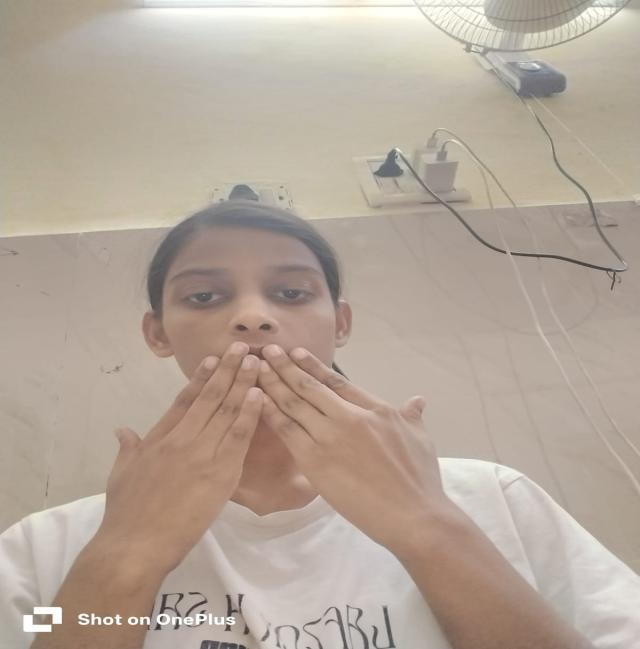Thanks: (94, 334, 452, 562)
